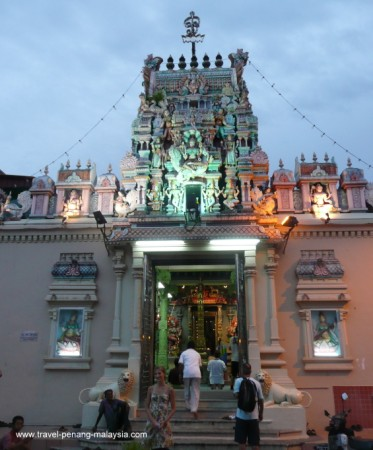Hindu Temple: (119, 17, 281, 382)
